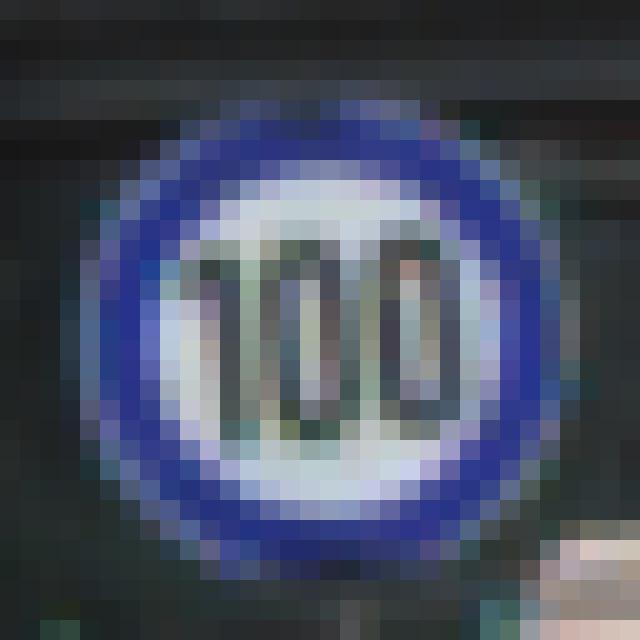SPEED LIMIT 100: (68, 103, 554, 584)
